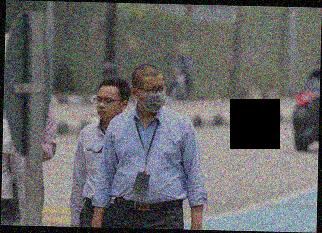with_mask: (138, 84, 167, 114)
without_mask: (95, 94, 121, 121)
